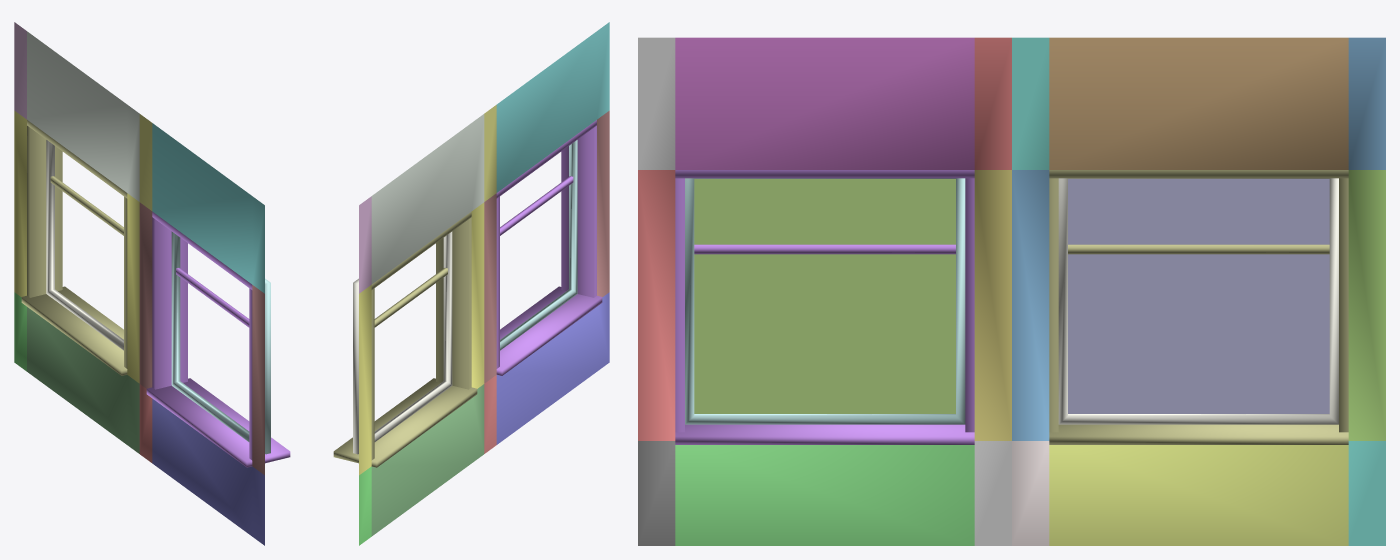
The model's file is SM_window_10.gltf.
3 views of the same model, side by side, from view 1: azimuth 30°, elevation 25°; view 2: azimuth 150°, elevation 25°; view 3: azimuth 270°, elevation 25° (orthographic). The views are drawn at different scales.
Parts seen in each view (by area): view 1: SM_window_10; view 2: SM_window_10; view 3: SM_window_10.
Part boxes in pixels (left/top/right/bottom): SM_window_10: left=14, top=22, right=290, bottom=545; SM_window_10: left=333, top=22, right=609, bottom=545; SM_window_10: left=638, top=37, right=1385, bottom=545.
Bounding box in the file's own units: 0.4 × 3 × 4.
